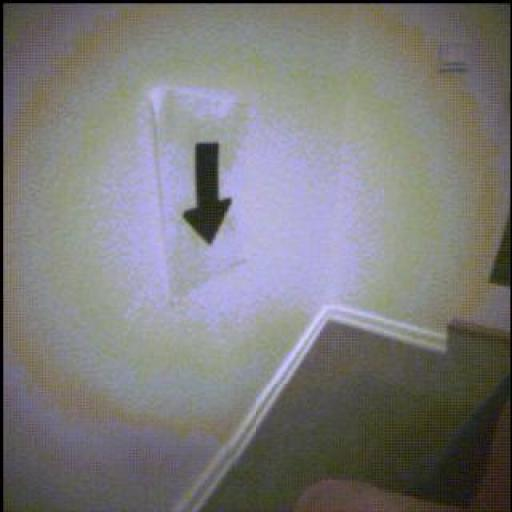arrow: (185, 144, 233, 245)
